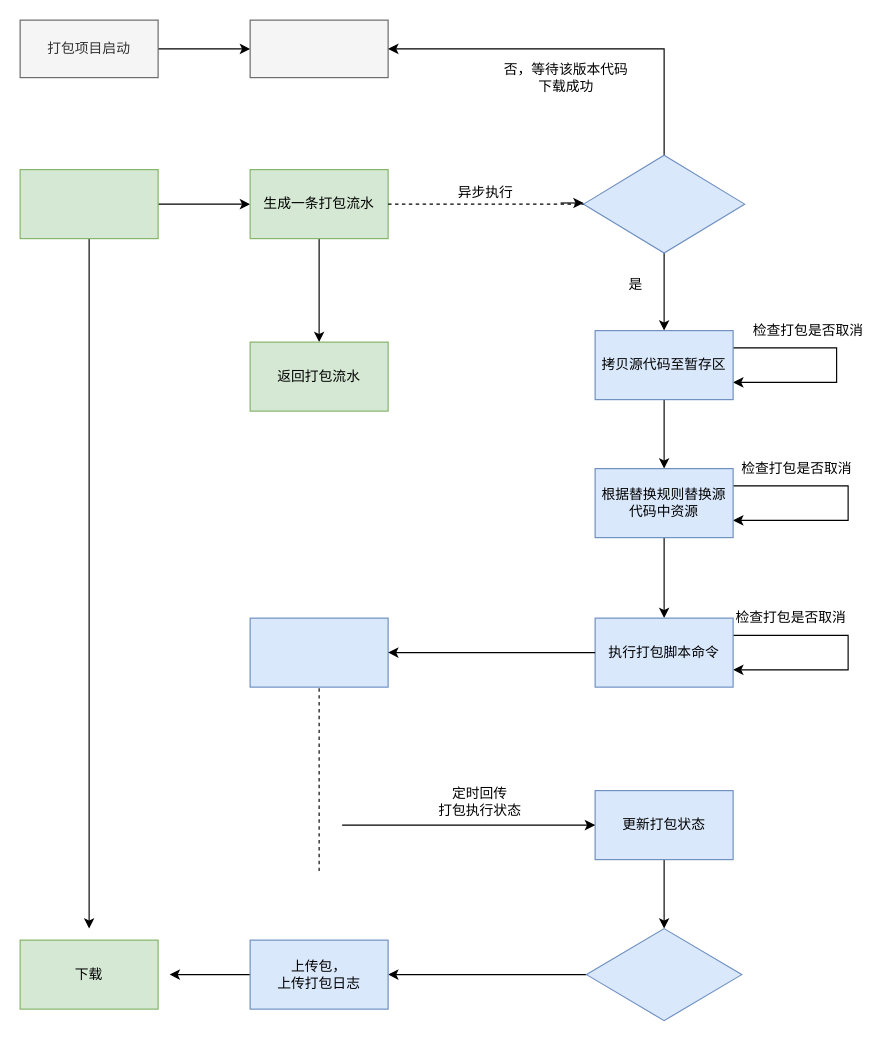
The diagram is 891 pixels wide and 1041 high, and some of its shapes have lost their labels. Here are the shapes that lost their labels. From the top down, the centre of each, then its label:
(x=318, y=48): 异步下载源代码
(x=88, y=203): 用户发起打包流程
(x=663, y=203): 检查该版本代码 是否下载成功
(x=318, y=652): 客户端python 打包脚本
(x=663, y=974): 打包成功｜失败
